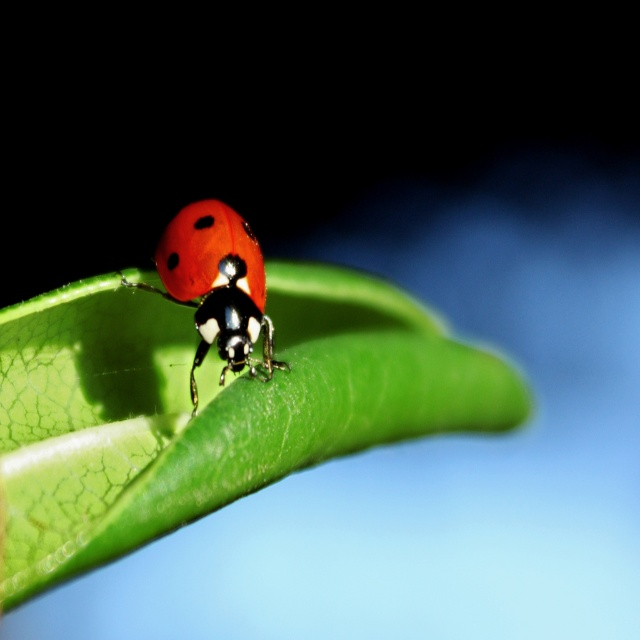Ladybug: (116, 200, 294, 422)
